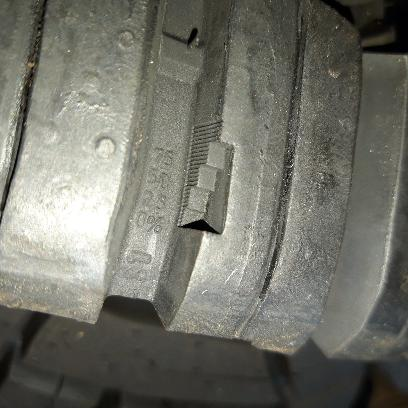temoin:100: (175, 120, 240, 238)
